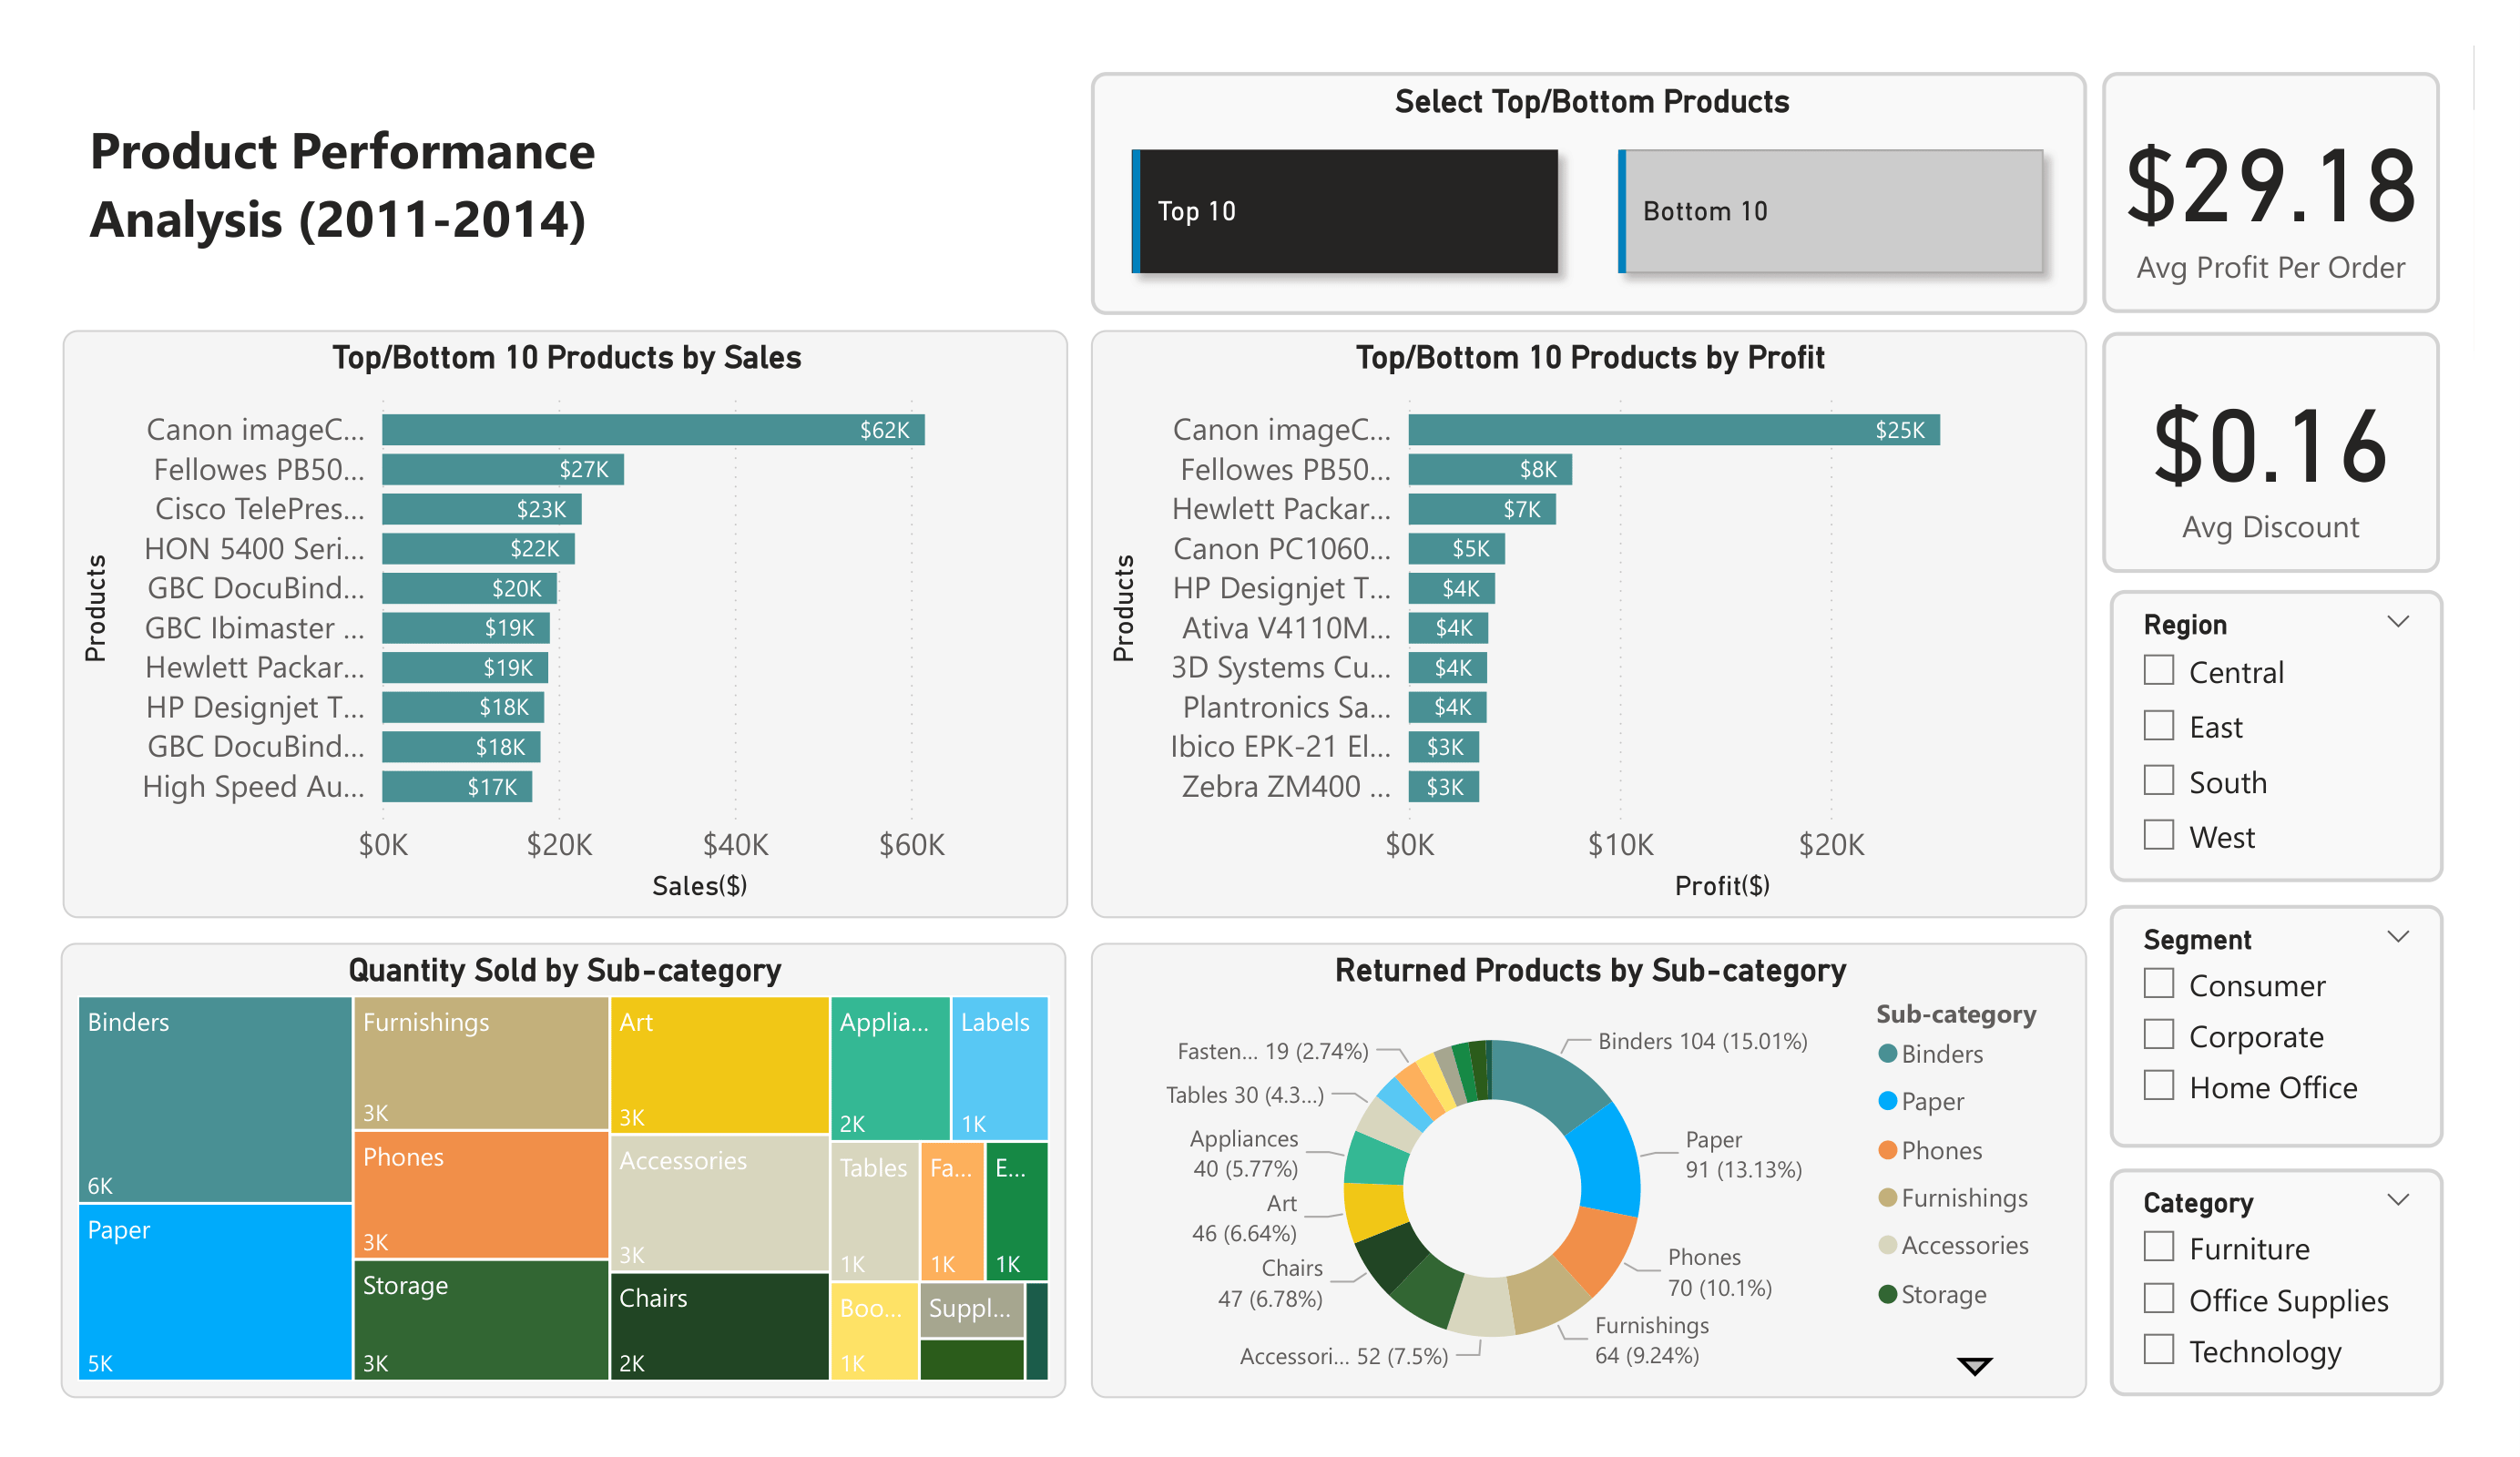

This screenshot's page, from the dashboard's own definition file:
{"tool":"powerbi","page":{"name":"Page 2","canvas":[1280,720],"ordinal":1},"visuals":[{"type":"clusteredBarChart","title":"Top/Bottom 10 Products by Sales","fields":{"Category":["superstore_db orders.product_name"],"Y":["superstore_db orders.Show Top Bottom Sales"]},"box":[8.9,150.5,530,310],"z":0},{"type":"advancedSlicerVisual","title":"Select Top/Bottom Products","fields":{"Values":["SalesViewToggle.view"]},"box":[550.8,14,525.3,127.5],"z":1000},{"type":"clusteredBarChart","title":"Top/Bottom 10 Products by Profit","fields":{"Y":["superstore_db orders.Show Top Bottom Profit"],"Category":["superstore_db orders.product_name"]},"box":[550.8,150.5,525,310],"z":2000},{"type":"donutChart","title":"Returned Products by Sub-category","fields":{"Category":["superstore_db orders.sub_category"],"Y":["superstore_db orders.ReturnedOrders"]},"box":[550.8,473,525,240],"z":3000},{"type":"treemap","title":"Quantity Sold by Sub-category","fields":{"Values":["Sum(superstore_db orders.quantity)"],"Group":["superstore_db orders.sub_category"]},"box":[7.6,473,530,240],"z":4000},{"type":"slicer","title":"Region","fields":{"Values":["superstore_db orders.region"]},"box":[1088,287.4,176,154],"z":5000},{"type":"slicer","fields":{"Values":["superstore_db orders.category"]},"box":[1088,592,176,120],"z":6000},{"type":"slicer","fields":{"Values":["superstore_db orders.segment"]},"box":[1088,452.7,176,128],"z":7000},{"type":"textbox","box":[17.8,14,516.3,127.5],"z":8000},{"type":"card","fields":{"Values":["superstore_db orders.AvgDiscount"]},"box":[1083.7,151.1,178,127],"z":9000},{"type":"card","fields":{"Values":["superstore_db orders.AvgProfitPerOrder"]},"box":[1083.7,14,178,127],"z":10000}]}

Visuals, with their boxes on the page's 1280x720 design canvas (x1, y1, x2, y2). These are canvas units, not pixel positions in the 2520x1457 screenshot, which may show the page scaled, cropped or inside an application window:
"Top/Bottom 10 Products by Sales" clusteredBarChart: 9/150/539/460
"Select Top/Bottom Products" advancedSlicerVisual: 551/14/1076/142
"Top/Bottom 10 Products by Profit" clusteredBarChart: 551/150/1076/460
"Returned Products by Sub-category" donutChart: 551/473/1076/713
"Quantity Sold by Sub-category" treemap: 8/473/538/713
"Region" slicer: 1088/287/1264/441
slicer - superstore_db orders.category: 1088/592/1264/712
slicer - superstore_db orders.segment: 1088/453/1264/581
textbox: 18/14/534/142
card - superstore_db orders.AvgDiscount: 1084/151/1262/278
card - superstore_db orders.AvgProfitPerOrder: 1084/14/1262/141
